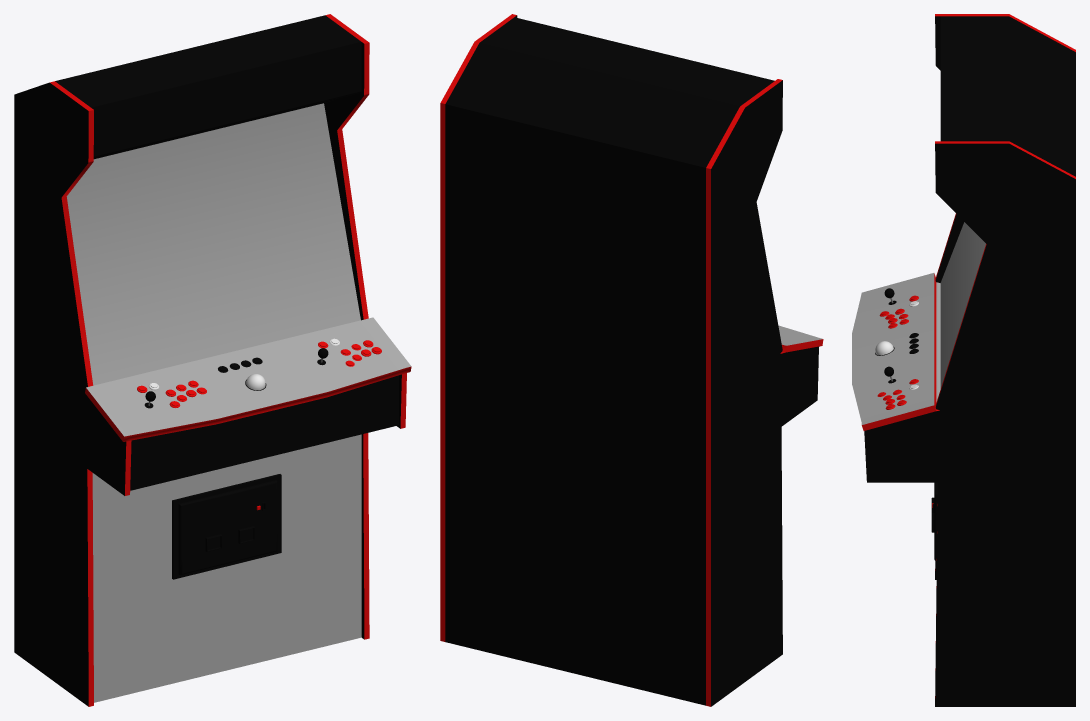
File: arcadeCabinet.fbx
3 views of the same model, side by side, from view 1: azimuth 30°, elevation 25°; view 2: azimuth 150°, elevation 25°; view 3: azimuth 270°, elevation 25° (orthographic). The views are drawn at different scales.
Parts seen in each view (by area): view 1: central_button; view 2: central_button; view 3: central_button.
Boxes of the visible parts, box(x1,y1,x2,y2) form: central_button: box(14, 14, 411, 706); central_button: box(440, 14, 823, 706); central_button: box(852, 14, 1075, 706).
Size of the model in its own units: 109 by 215 by 77.49.
